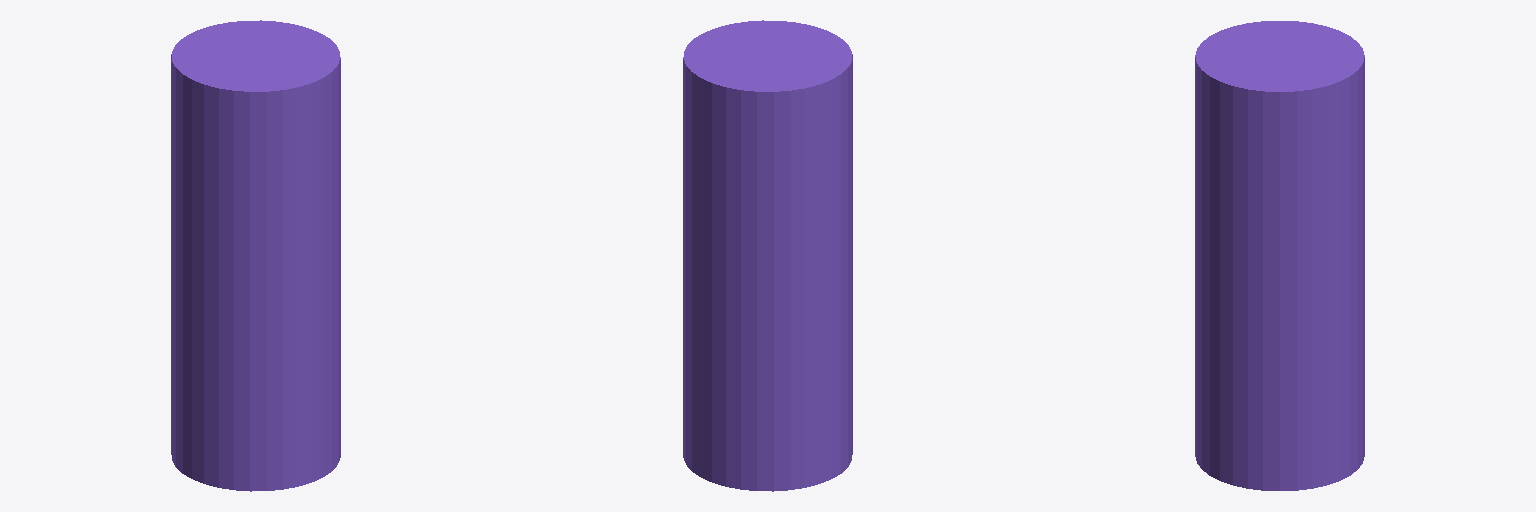
URDF robot description (myfirst):
<?xml version="1.0"?>
 <robot name="myfirst">
 
   <material name="purple">
     <color rgba="0.57647059 0.43921569 0.85882353 1"/>
   </material>
   
   <link name="base_link">
     <visual>
       <geometry>
         <cylinder length="0.13" radius="0.025"/>
       </geometry>
       <material name="purple"/>
     </visual>

     <inertial>
       <mass value="0"/>
       <inertia ixx="0.0" ixy="0.0" ixz="0.0" iyy="0.0" iyz="0.0" izz="0.0"/>
     </inertial>

   </link>

 </robot>

--- What the picture shows (computed from the rendered views, not written in the file) ---
3 views of the same robot in one strip: view 1: azimuth 30°, elevation 25°; view 2: azimuth 150°, elevation 25°; view 3: azimuth 270°, elevation 25° (orthographic).
Model myfirst with 1 links and 0 joints (none), rooted at base_link, posed all joints at 0.
Links seen in each view (by area): view 1: base_link; view 2: base_link; view 3: base_link.
Boxes of the visible links, x1,y1,x2,y2 form: base_link: (171,20,340,491); base_link: (683,20,852,491); base_link: (1195,21,1364,490).
Bounding box of the posed robot: 0.05 × 0.05 × 0.13 m (x, y, z).
Geometry: primitives only (box / cylinder / sphere), no mesh files.